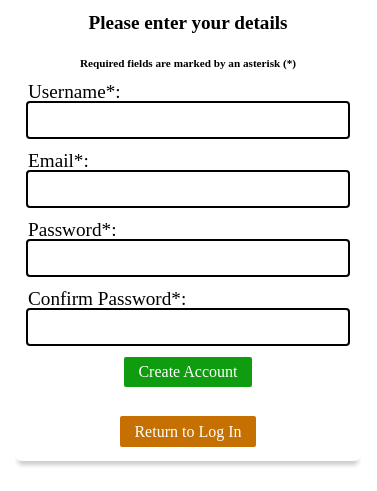
Scenario: UI/DOM Testing... › The 'Password' error message... › Should be present if the value of the 'Password' input is changed          and the new value is invalid
Type "a" into the password field named "password-input" at [188, 258], box [28, 241, 348, 275]
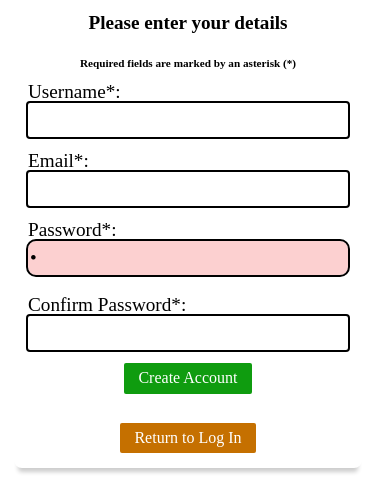
Now the heading named "password-error" is shown, box [28, 275, 348, 281]
